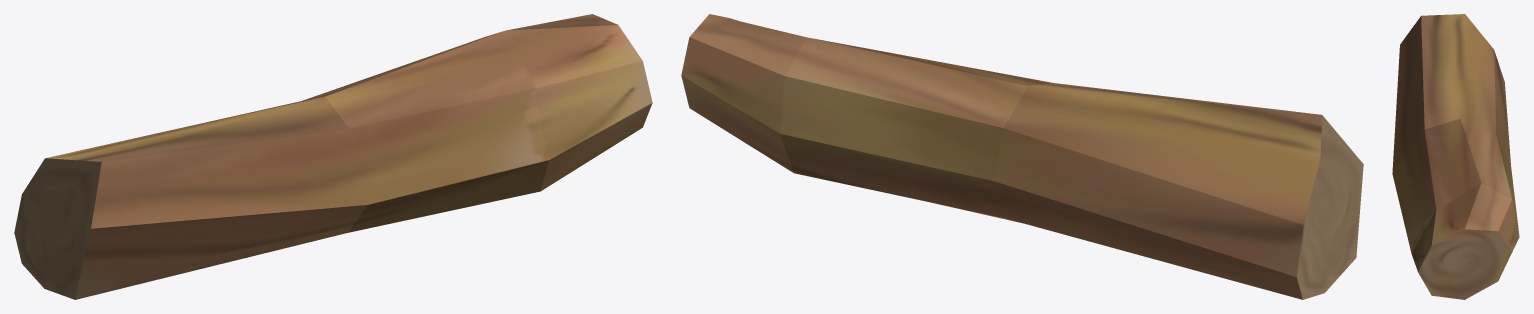
File: wood-block-07.obj
3 renders of one model, left to right at view 1: azimuth 30°, elevation 25°; view 2: azimuth 150°, elevation 25°; view 3: azimuth 270°, elevation 25°, orthographic. The views are drawn at different scales.
Visible parts, largest first — view 1: wood-block-07; view 2: wood-block-07; view 3: wood-block-07.
Part boxes in pixels (x1,y1,x2,y2): wood-block-07: (14, 14, 652, 299); wood-block-07: (681, 14, 1363, 299); wood-block-07: (1392, 14, 1519, 299).
Bounding box in the file's own units: 1.48 × 0.3574 × 0.372.
